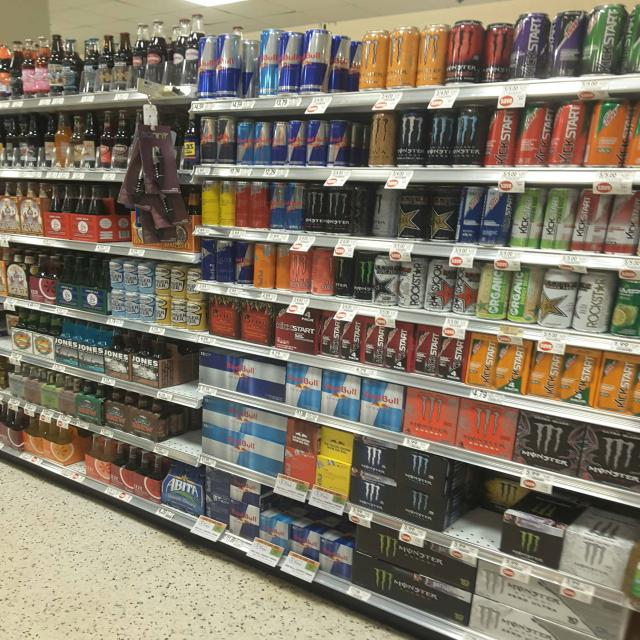empty: (156, 401, 210, 445), (156, 350, 206, 392)
